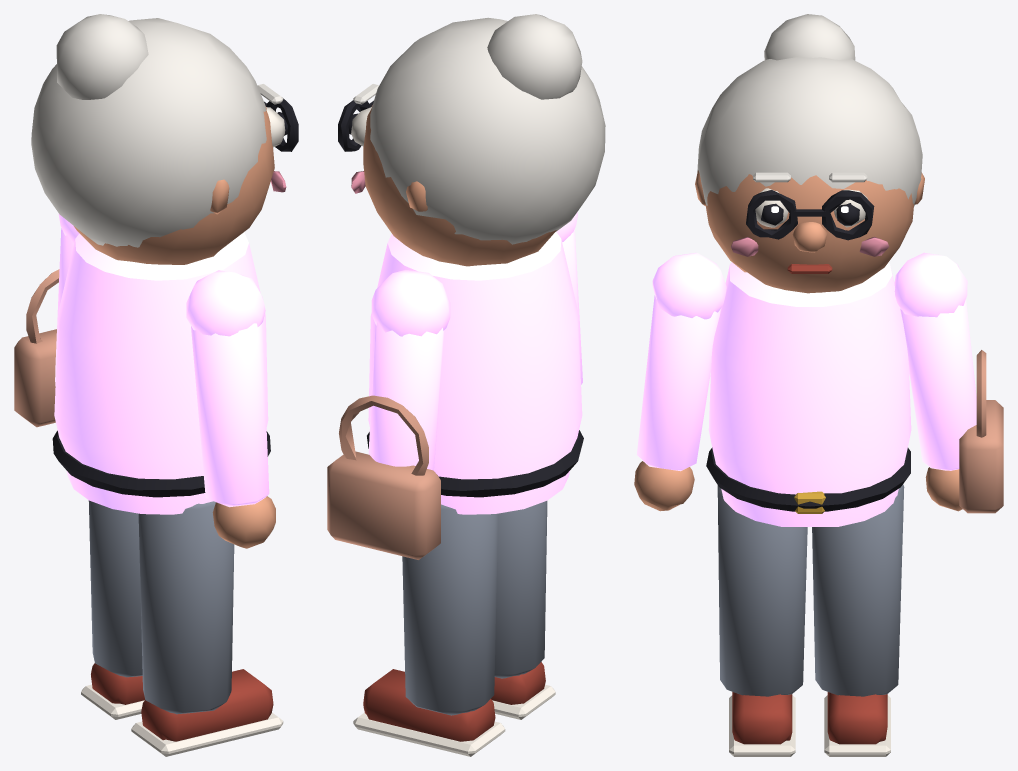
The model's file is ped_granny.glb.
3 renders of one model, left to right at view 1: azimuth 30°, elevation 25°; view 2: azimuth 150°, elevation 25°; view 3: azimuth 270°, elevation 25°, orthographic. The views are drawn at different scales.
Parts seen in each view (by area): view 1: ped_granny; view 2: ped_granny; view 3: ped_granny.
Boxes of the visible parts, x1,y1,x2,y2 form: ped_granny: (14,14,298,756); ped_granny: (327,14,605,756); ped_granny: (634,14,1003,756).
Size of the model in its own units: 0.471 by 1.43 by 0.7097.
1 material, 1 textured.
